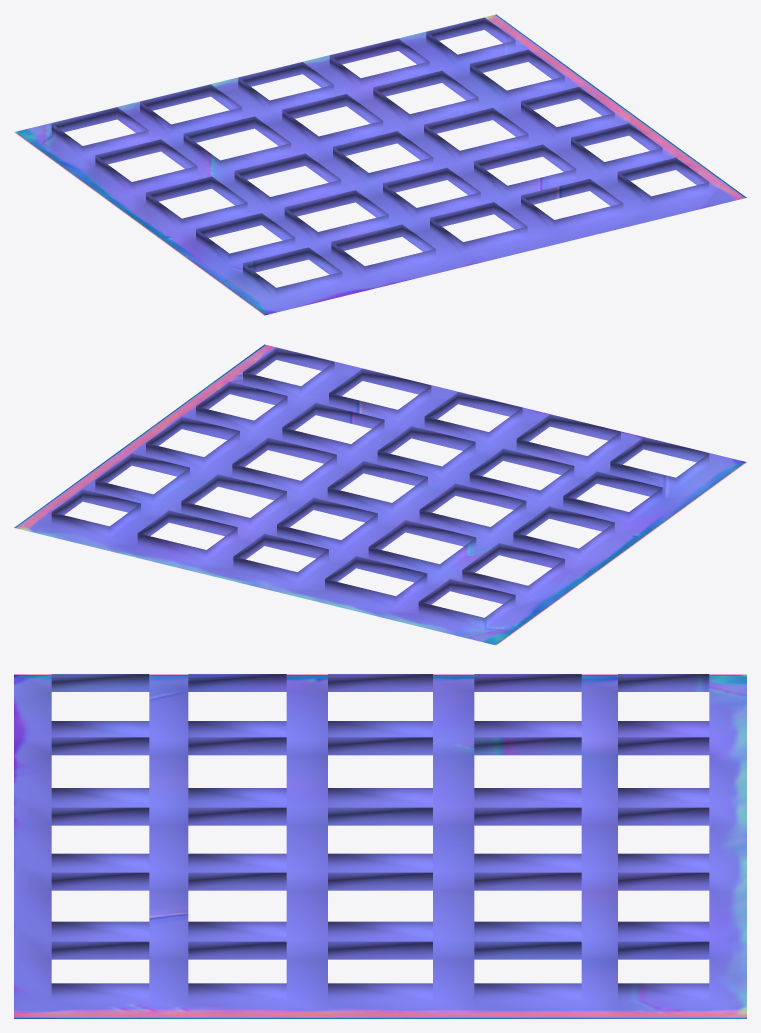
The model's file is Skylight_Grate.fbx.
The picture shows the model from 3 angles, top to bottom: view 1: azimuth 30°, elevation 25°; view 2: azimuth 150°, elevation 25°; view 3: azimuth 270°, elevation 25°; orthographic projection. The views are drawn at different scales.
Visible parts, largest first — view 1: SkyLight_Bars; view 2: SkyLight_Bars; view 3: SkyLight_Bars.
Part boxes in pixels (x1,y1,x2,y2): SkyLight_Bars: (14,14,746,315); SkyLight_Bars: (14,344,746,645); SkyLight_Bars: (14,674,746,1018).
Size of the model in its own units: 16.32 by 0.397 by 14.68.
